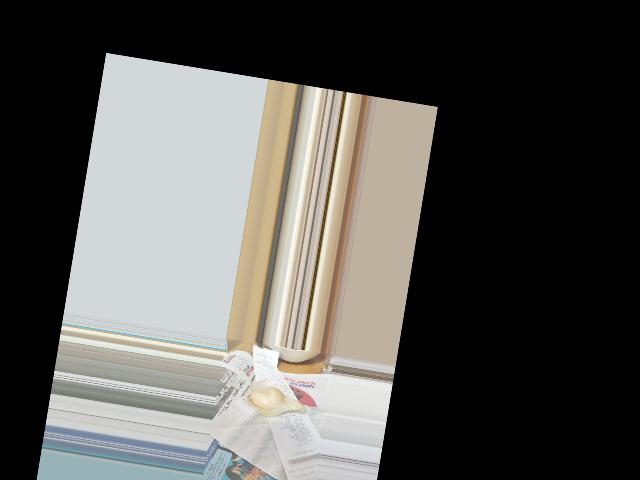onion: (246, 385, 304, 419)
